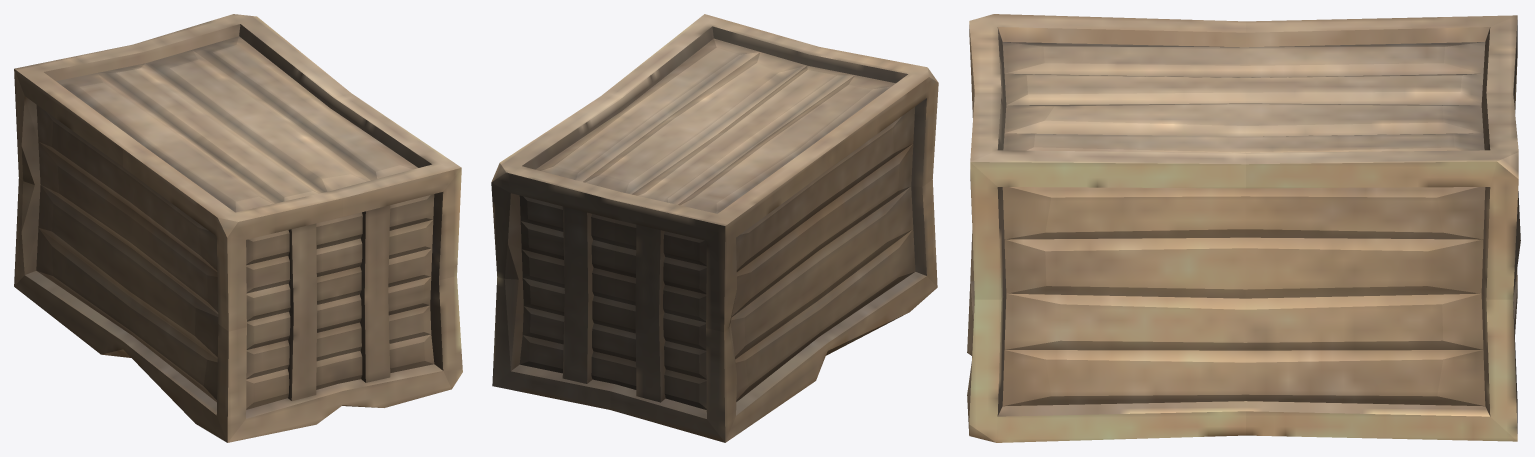
The model's file is BoxMiddle.fbx.
3 renders of one model, left to right at view 1: azimuth 30°, elevation 25°; view 2: azimuth 150°, elevation 25°; view 3: azimuth 270°, elevation 25°, orthographic. The views are drawn at different scales.
Parts seen in each view (by area): view 1: Box2; view 2: Box2; view 3: Box2.
Part boxes in pixels (x1,y1,x2,y2): Box2: (14,14,462,442); Box2: (491,14,938,442); Box2: (967,14,1520,442).
Bounding box in the file's own units: 39.84 × 35.48 × 62.84.
